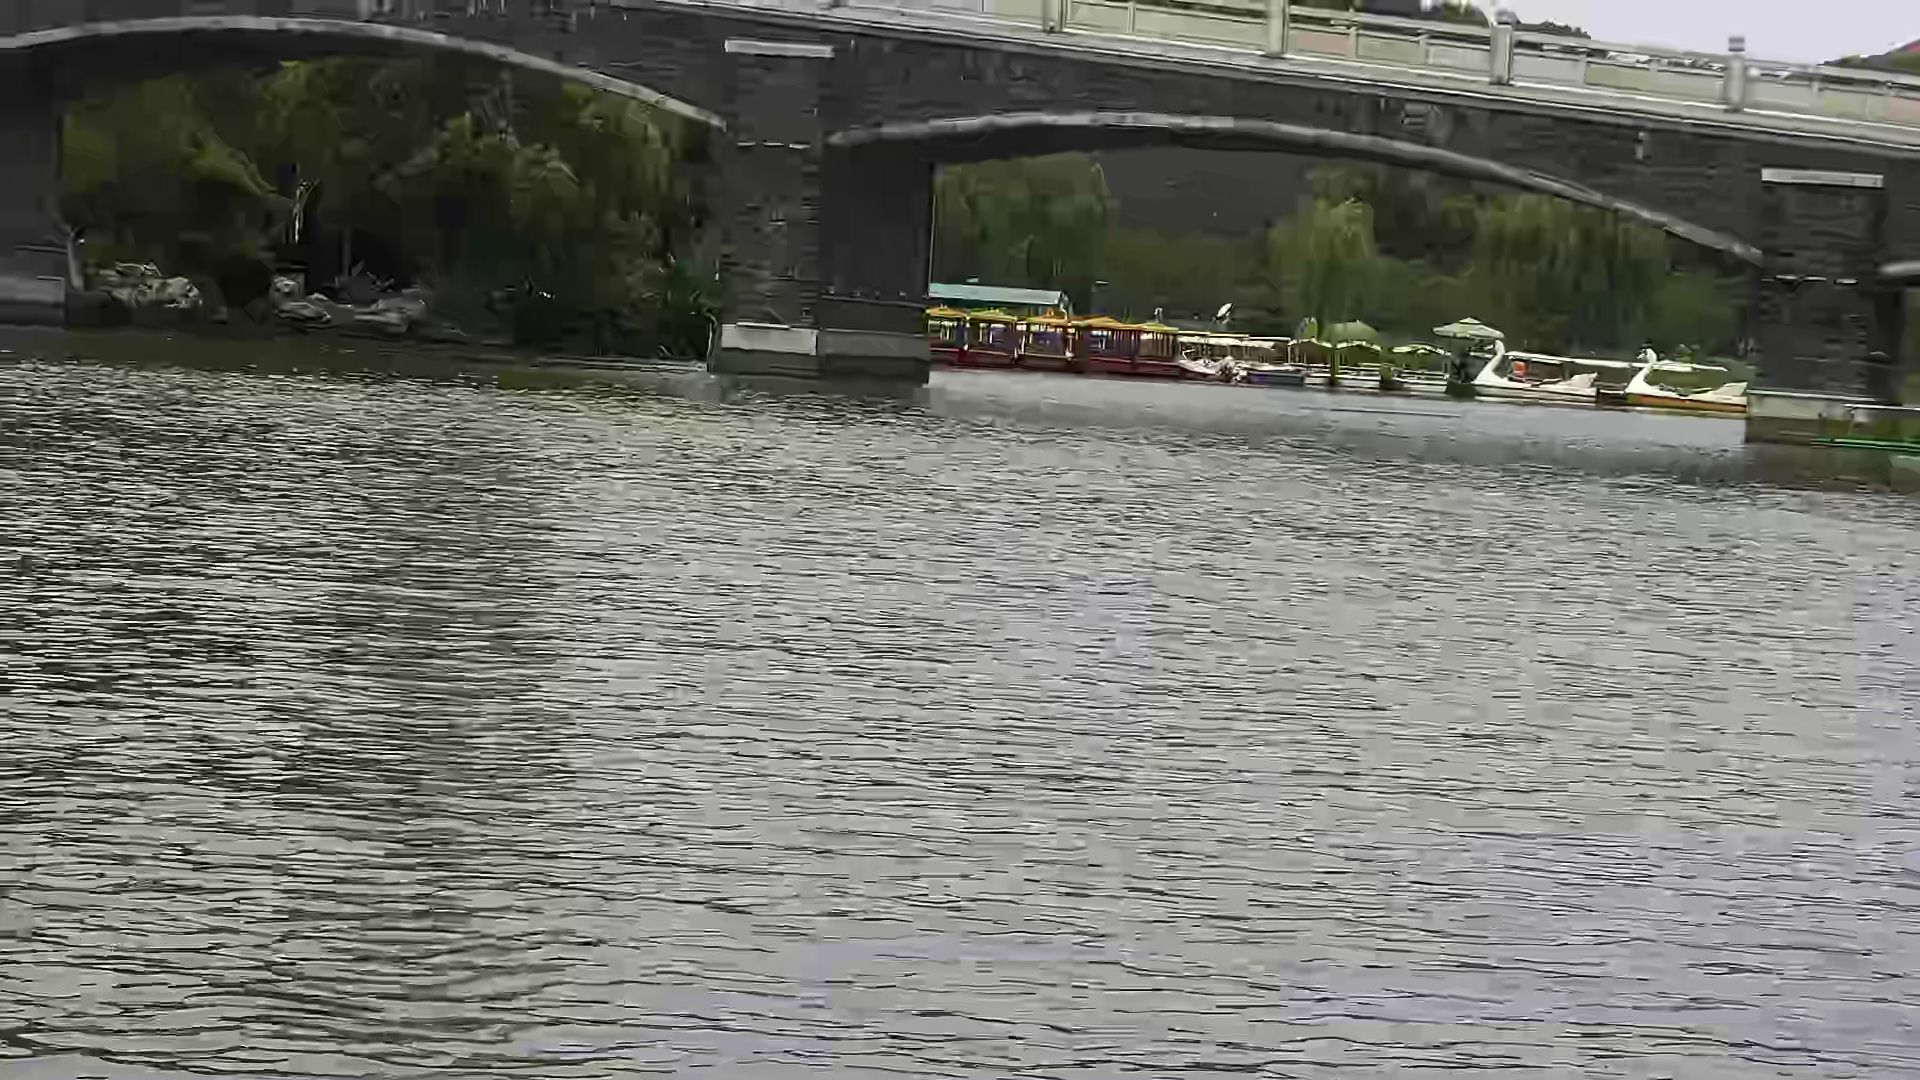bridge: (66, 3, 1894, 348)
harbor: (920, 280, 1738, 402)
